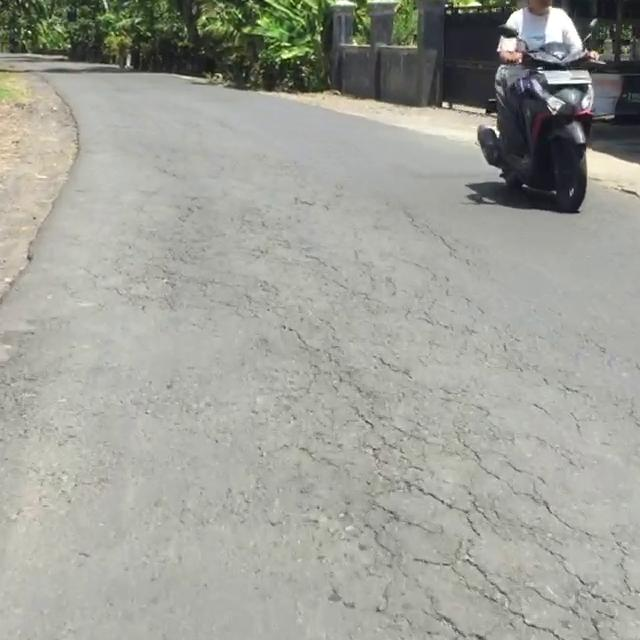retak_kulit_buaya: (231, 245, 640, 640)
